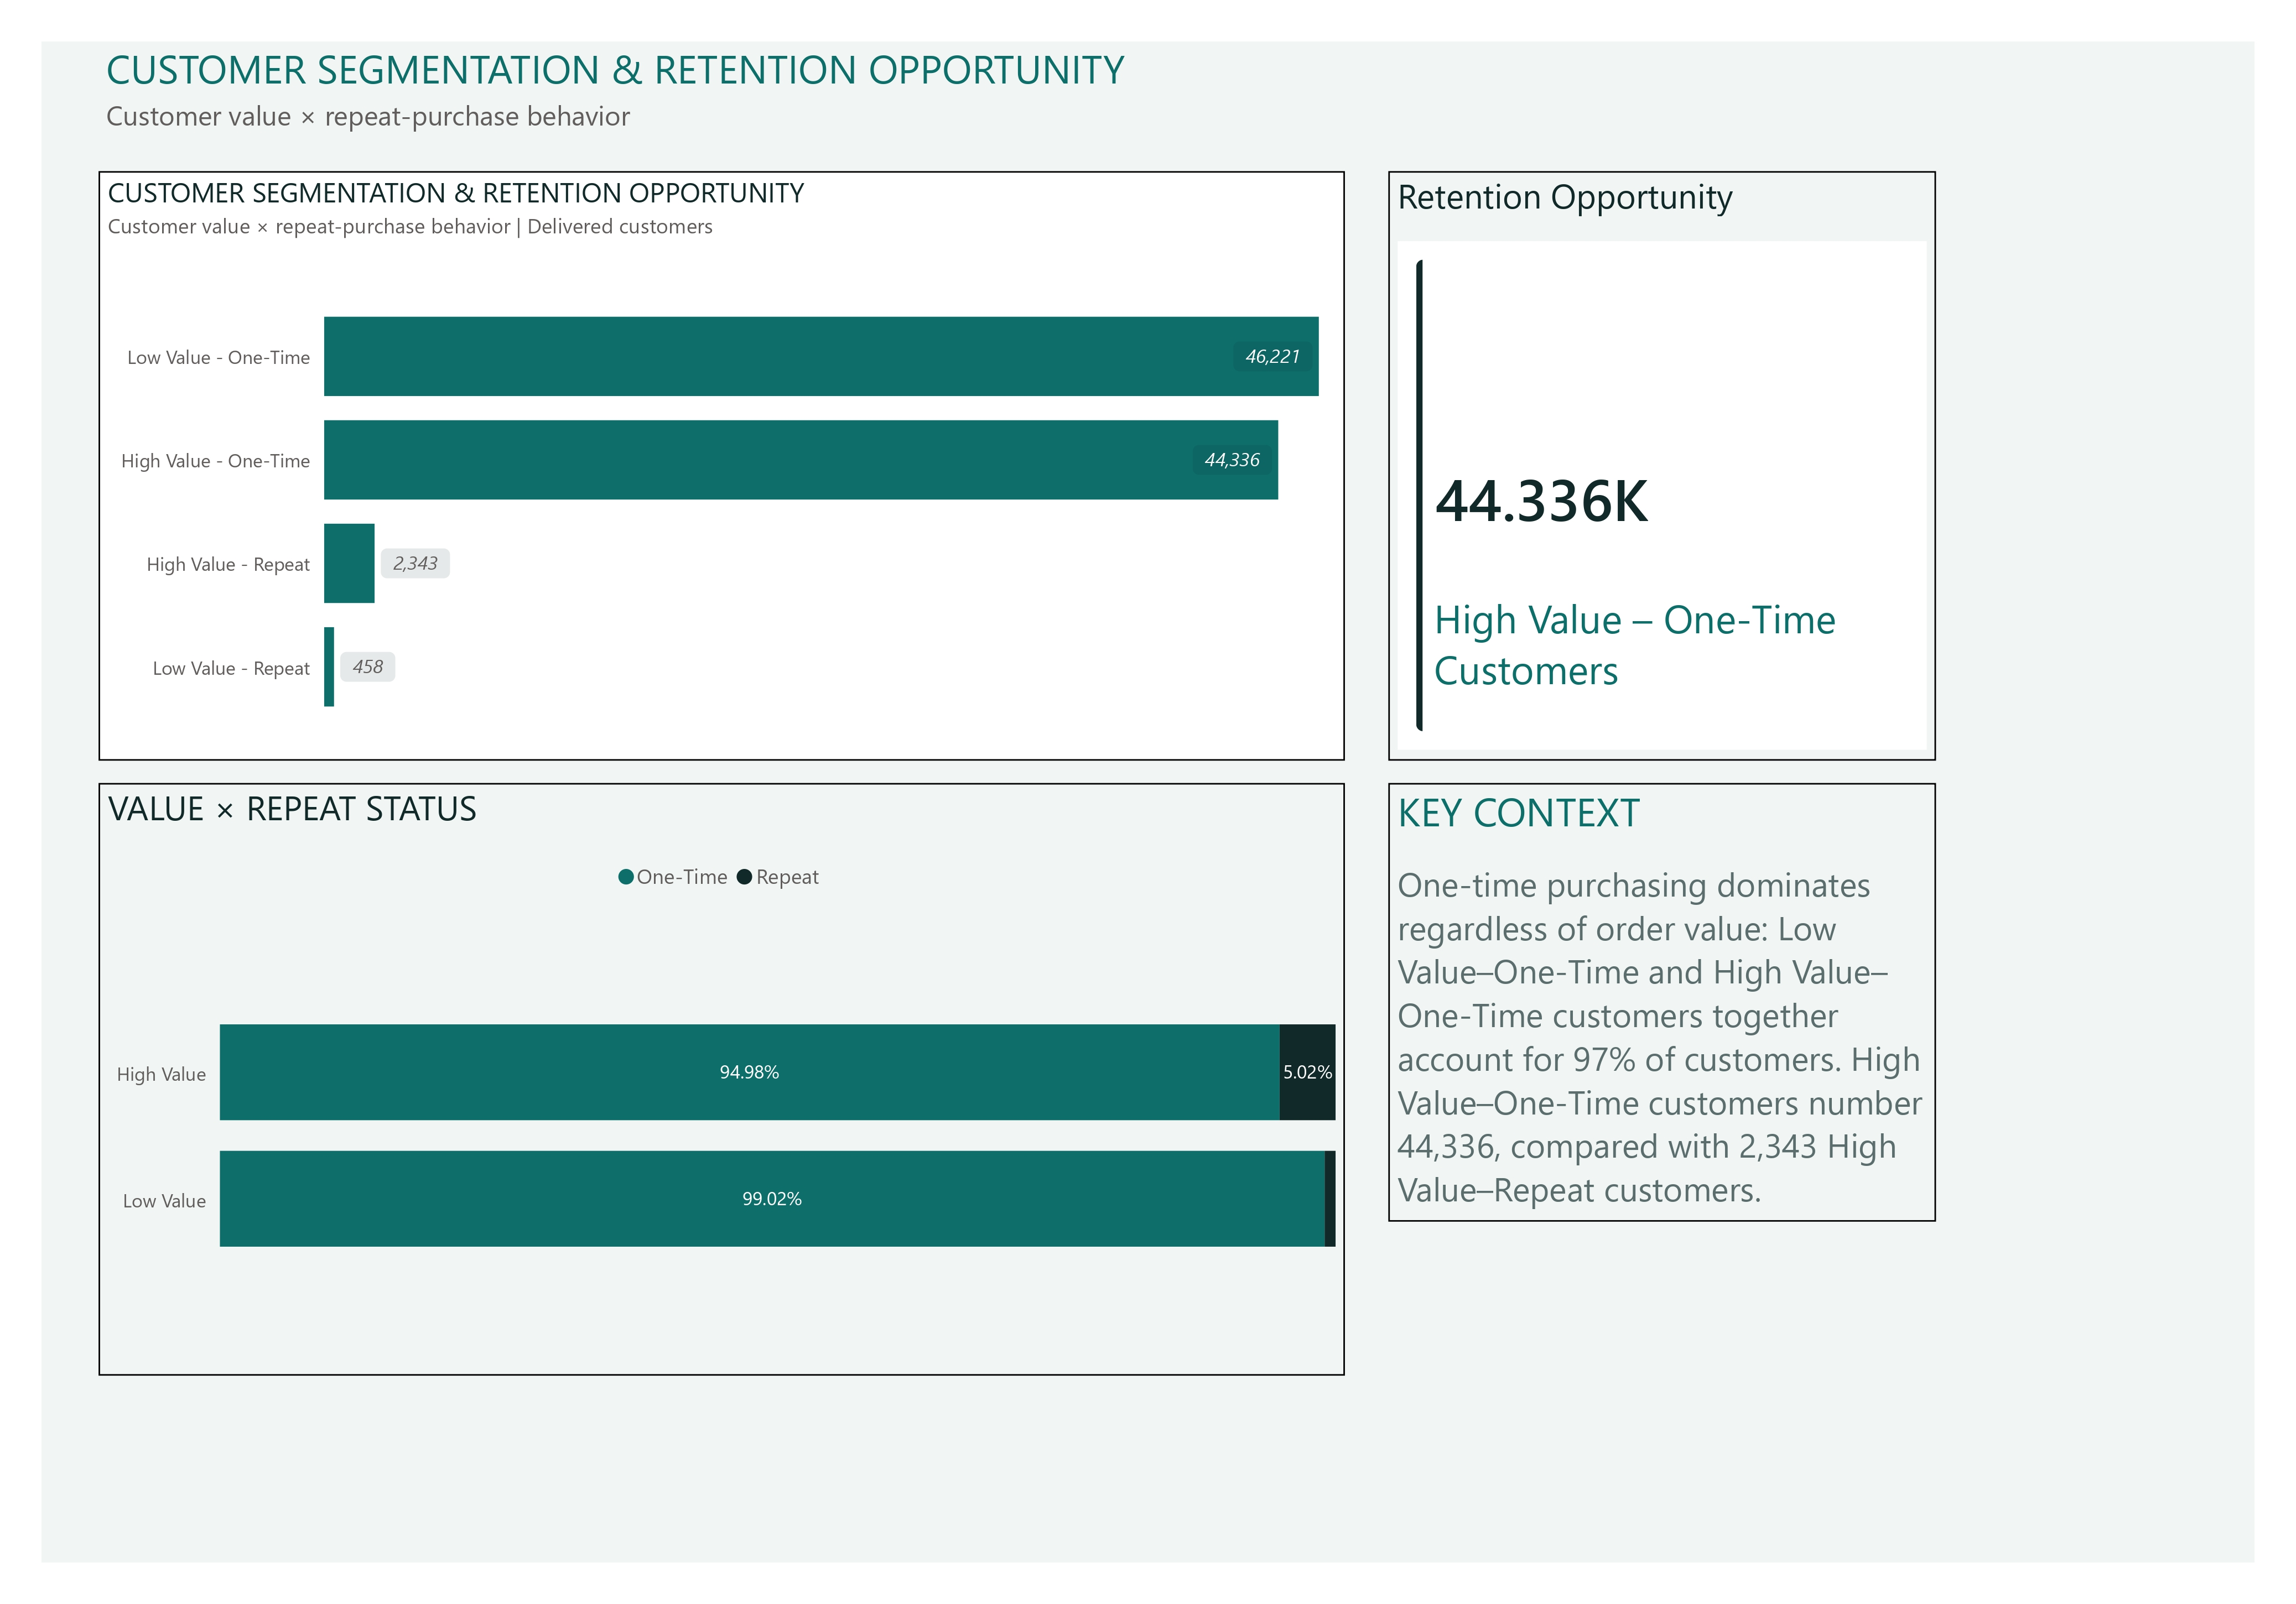

This screenshot's page, from the dashboard's own definition file:
{"tool":"powerbi","page":{"name":"Segmentation","canvas":[1280,880],"ordinal":3},"visuals":[{"type":"textbox","title":" CUSTOMER SEGMENTATION & RETENTION OPPORTUNITY","box":[37,0,676,61],"z":0},{"type":"barChart","title":"CUSTOMER SEGMENTATION & RETENTION OPPORTUNITY","fields":{"Category":["customers.customer_segment"],"Y":["CountNonNull(customers.customer_unique_id)"]},"box":[37,83,801,379],"z":1000},{"type":"cardVisual","title":"Retention Opportunity","fields":{"Data":["measure.high_value_one_time_customers"]},"box":[865.6,83.3,352.2,378.9],"z":2000},{"type":"hundredPercentStackedBarChart","title":"VALUE × REPEAT STATUS","fields":{"Y":["CountNonNull(customers.customer_unique_id)"],"Series":["customers.retention_segment"],"Category":["customers.value_segment"]},"box":[37,477,801,381],"z":3000},{"type":"textbox","title":"KEY CONTEXT","box":[865.6,476.7,352.2,282.2],"z":4000},{"type":"textbox","title":"High Value – One-Time Customers","box":[890,353.3,274.4,86.7],"z":5000}]}

Visuals, with their boxes on the page's 1280x880 design canvas (x1, y1, x2, y2). These are canvas units, not pixel positions in the 2296x1604 screenshot, which may show the page scaled, cropped or inside an application window:
" CUSTOMER SEGMENTATION & RETENTION OPPORTUNITY" textbox: x1=37, y1=0, x2=713, y2=61
"CUSTOMER SEGMENTATION & RETENTION OPPORTUNITY" barChart: x1=37, y1=83, x2=838, y2=462
"Retention Opportunity" cardVisual: x1=866, y1=83, x2=1218, y2=462
"VALUE × REPEAT STATUS" hundredPercentStackedBarChart: x1=37, y1=477, x2=838, y2=858
"KEY CONTEXT" textbox: x1=866, y1=477, x2=1218, y2=759
"High Value – One-Time Customers" textbox: x1=890, y1=353, x2=1164, y2=440
